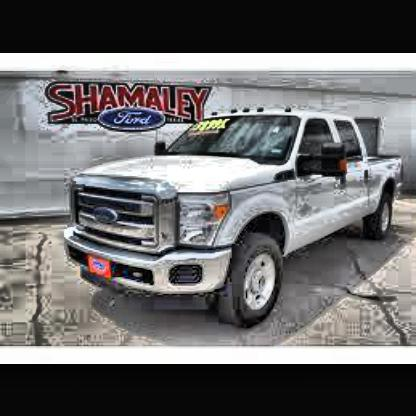Ford F-450 Super Duty Crew Cab 2012: (63, 110, 403, 331)
